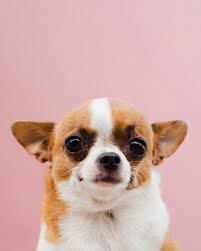chihuahua: (4, 93, 201, 250)
